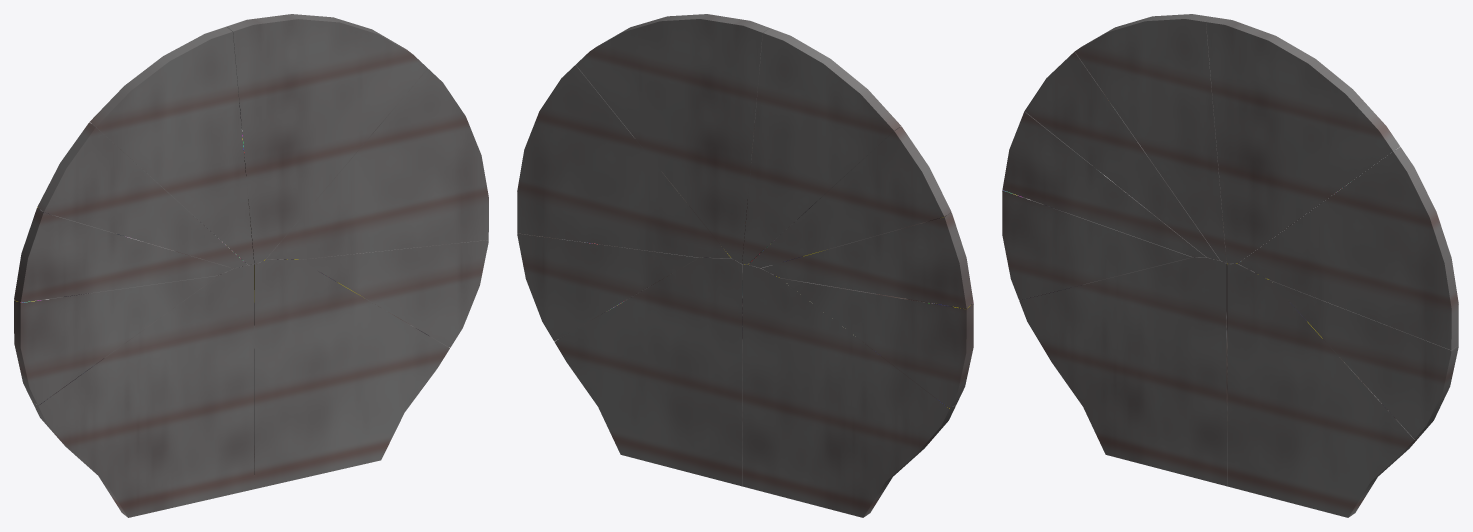
Rendered from WallBreak.fbx.
3 renders of one model, left to right at view 1: azimuth 30°, elevation 25°; view 2: azimuth 150°, elevation 25°; view 3: azimuth 330°, elevation 25°, orthographic.
Parts seen in each view (by area): view 1: Circle_024__3__cell.004, Circle_024__3__cell.008, Circle_024__3__cell.007, Circle_024__3__cell.002, Circle_024__3__cell.009, Circle_024__3__cell.010, Circle_024__3__cell.001, Circle_024__3__cell, Circle_024__3__cell.003; view 2: Circle_024__3__cell.004, Circle_024__3__cell.008, Circle_024__3__cell.007, Circle_024__3__cell.002, Circle_024__3__cell.009, Circle_024__3__cell.010, Circle_024__3__cell.001, Circle_024__3__cell, Circle_024__3__cell.003; view 3: Circle_024__3__cell.004, Circle_024__3__cell.008, Circle_024__3__cell.007, Circle_024__3__cell.002, Circle_024__3__cell.009, Circle_024__3__cell.010, Circle_024__3__cell.001, Circle_024__3__cell.003, Circle_024__3__cell.
Part boxes in pixels (x1,y1,x2,y2): Circle_024__3__cell.004: (32, 263, 254, 517); Circle_024__3__cell.008: (254, 259, 449, 488); Circle_024__3__cell.007: (226, 14, 427, 264); Circle_024__3__cell.002: (266, 69, 488, 259); Circle_024__3__cell.009: (90, 26, 254, 264); Circle_024__3__cell.010: (37, 122, 246, 268); Circle_024__3__cell.001: (14, 275, 218, 405); Circle_024__3__cell: (14, 207, 232, 302); Circle_024__3__cell.003: (299, 240, 488, 347); Circle_024__3__cell.004: (742, 264, 956, 517); Circle_024__3__cell.008: (554, 257, 742, 486); Circle_024__3__cell.007: (576, 14, 769, 263); Circle_024__3__cell.002: (517, 65, 730, 257); Circle_024__3__cell.009: (742, 28, 900, 264); Circle_024__3__cell.010: (748, 126, 951, 267); Circle_024__3__cell.001: (780, 278, 973, 408); Circle_024__3__cell: (761, 212, 973, 308); Circle_024__3__cell.003: (517, 233, 698, 341); Circle_024__3__cell.004: (1019, 257, 1227, 486); Circle_024__3__cell.008: (1227, 261, 1420, 517); Circle_024__3__cell.007: (1206, 17, 1399, 263); Circle_024__3__cell.002: (1238, 147, 1458, 350); Circle_024__3__cell.009: (1075, 14, 1226, 263); Circle_024__3__cell.010: (1024, 51, 1219, 260); Circle_024__3__cell.001: (1002, 190, 1191, 300); Circle_024__3__cell.003: (1270, 280, 1458, 439); Circle_024__3__cell: (1002, 111, 1206, 257).
Bounding box in the file's own units: 316 × 304 × 17.35.
Materials: 1 (1 with a texture image).
